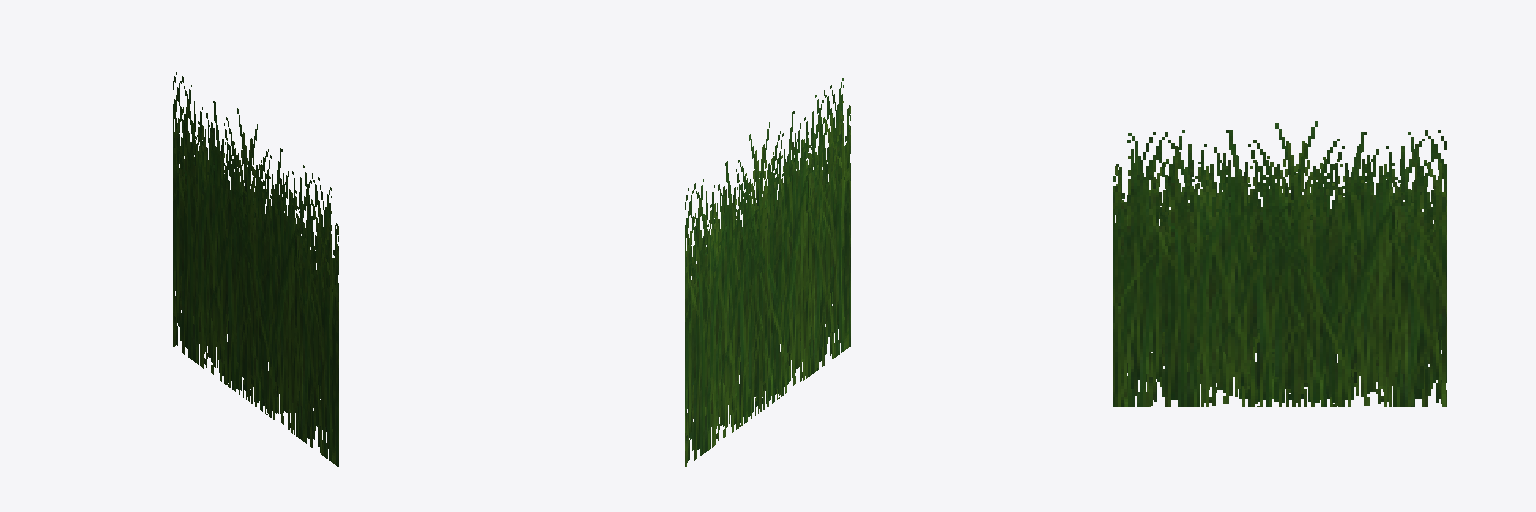
The picture shows the model from 3 angles: view 1: azimuth 30°, elevation 25°; view 2: azimuth 150°, elevation 25°; view 3: azimuth 270°, elevation 25°; orthographic projection.
Visible parts, largest first — view 1: Cube_Cube.001; view 2: Cube_Cube.001; view 3: Cube_Cube.001.
Part boxes in pixels (left/top/right/bottom): Cube_Cube.001: left=173, top=72, right=338, bottom=466; Cube_Cube.001: left=685, top=78, right=850, bottom=466; Cube_Cube.001: left=1113, top=121, right=1446, bottom=406.
Bounding box in the file's own units: 0.0002 × 2 × 2.
Materials: 1 (1 with a texture image).